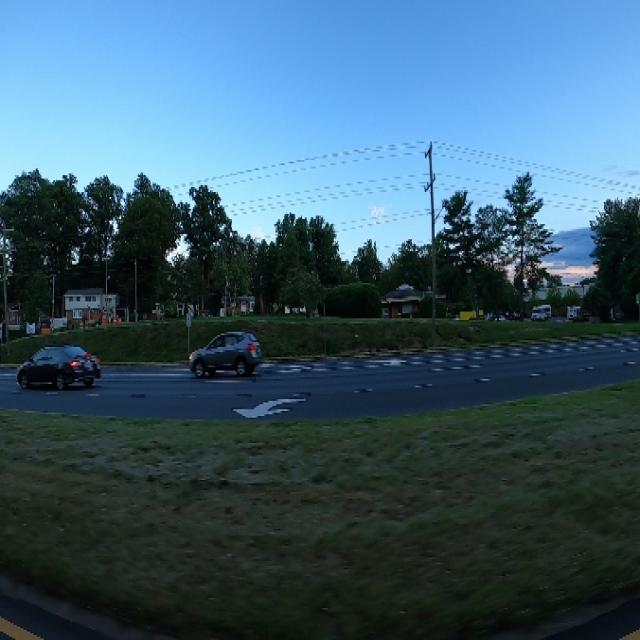car: (174, 323, 274, 381), (16, 335, 107, 398)
